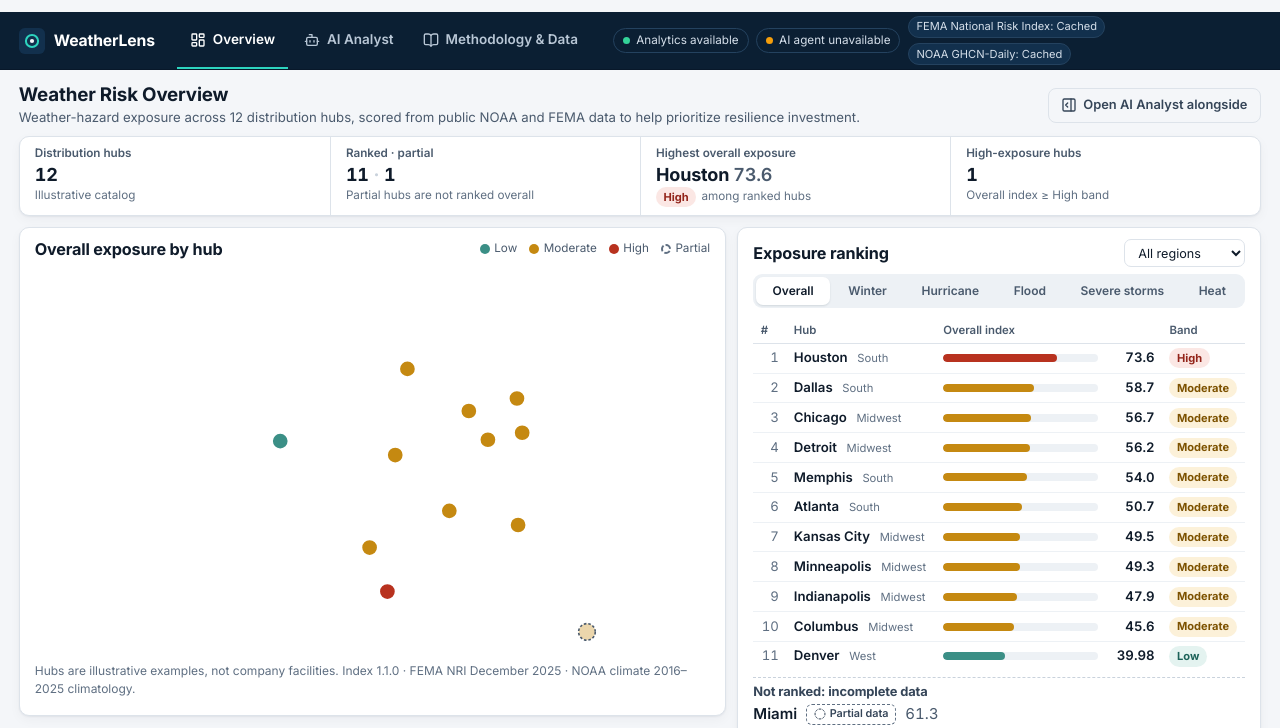
Scenario: AI Analyst › makes missing LLM configuration explicit while deterministic views keep working
expect the text "AI agent unavailable" is shown: met, box [756, 28, 900, 53]
expect the text "Analytics available" is shown: met, box [613, 28, 749, 53]
Click the button "AI Analyst": click(349, 40) [292, 12, 406, 69]
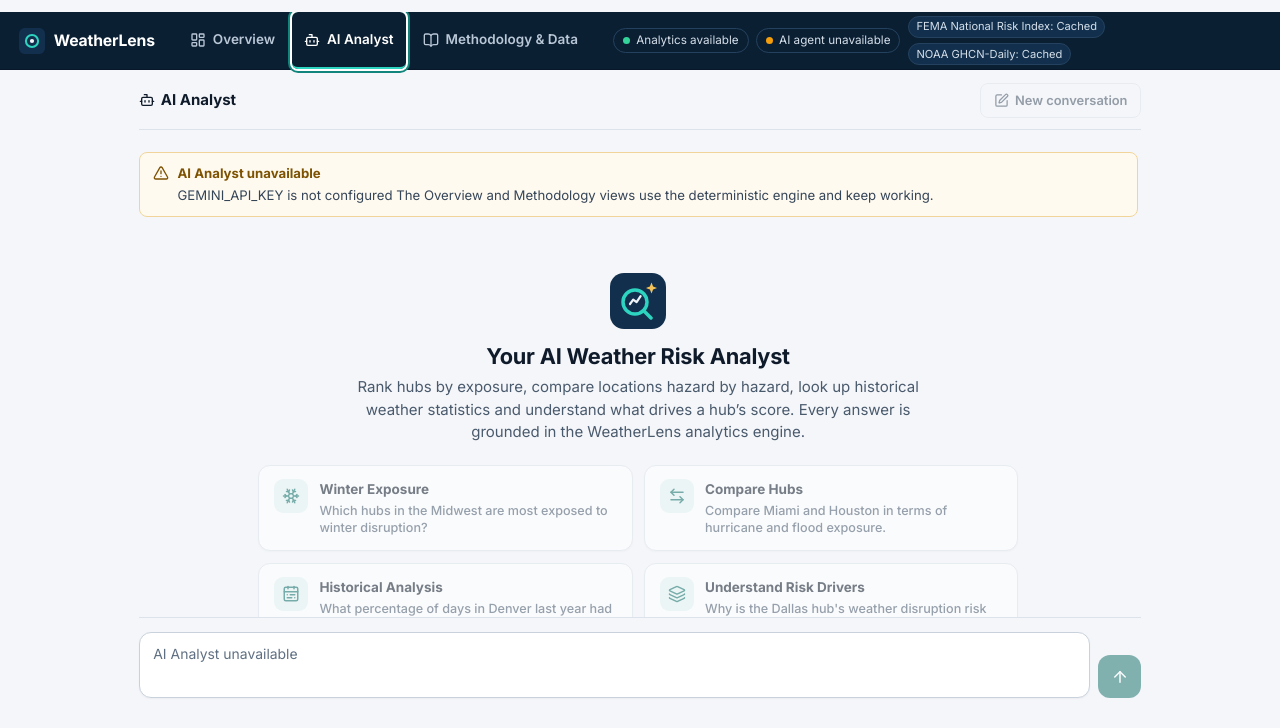
expect the text "AI Analyst unavailable" is shown: met, box [178, 165, 321, 181]
expect the text box is disabled: met, box [139, 632, 1090, 698]
